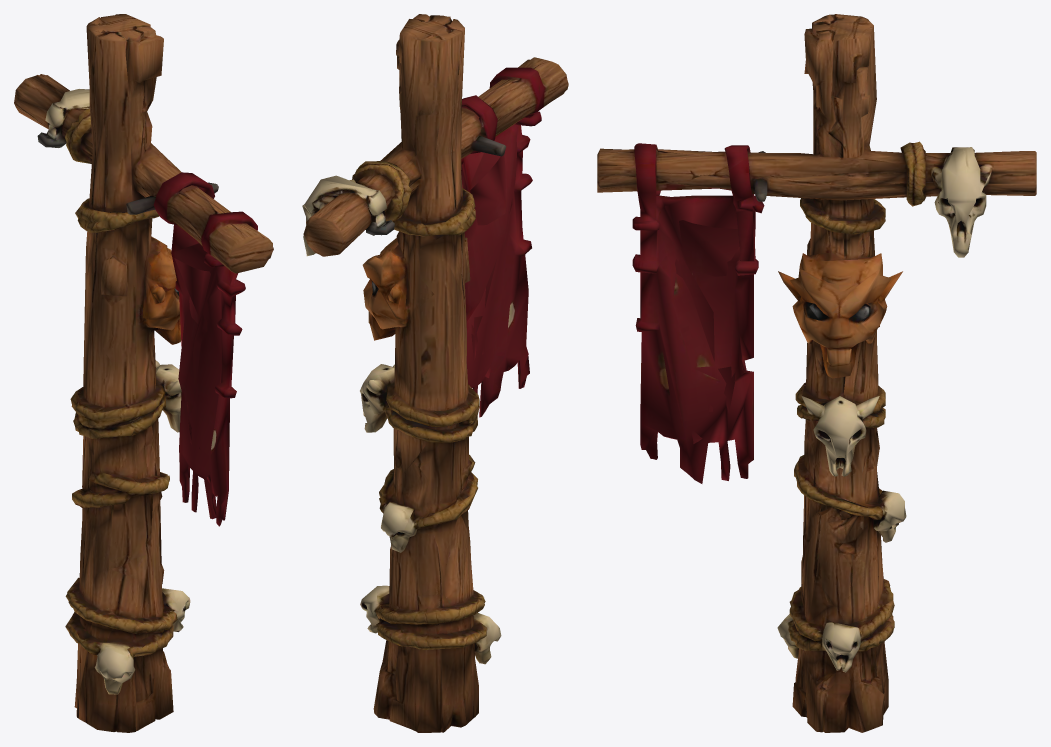
The model's file is goblin_totem.glb.
3 renders of one model, left to right at view 1: azimuth 30°, elevation 25°; view 2: azimuth 150°, elevation 25°; view 3: azimuth 270°, elevation 25°, orthographic.
Visible parts, largest first — view 1: tripo_node_62131f9e-8863-4100-a95a-4a0cbba13f52; view 2: tripo_node_62131f9e-8863-4100-a95a-4a0cbba13f52; view 3: tripo_node_62131f9e-8863-4100-a95a-4a0cbba13f52.
Boxes of the visible parts, x1,y1,x2,y2 form: tripo_node_62131f9e-8863-4100-a95a-4a0cbba13f52: (14, 14, 273, 732); tripo_node_62131f9e-8863-4100-a95a-4a0cbba13f52: (302, 14, 568, 732); tripo_node_62131f9e-8863-4100-a95a-4a0cbba13f52: (597, 14, 1036, 732).
Size of the model in its own units: 0.1742 by 0.9782 by 0.5686.
Materials: 1 (1 with a texture image).
